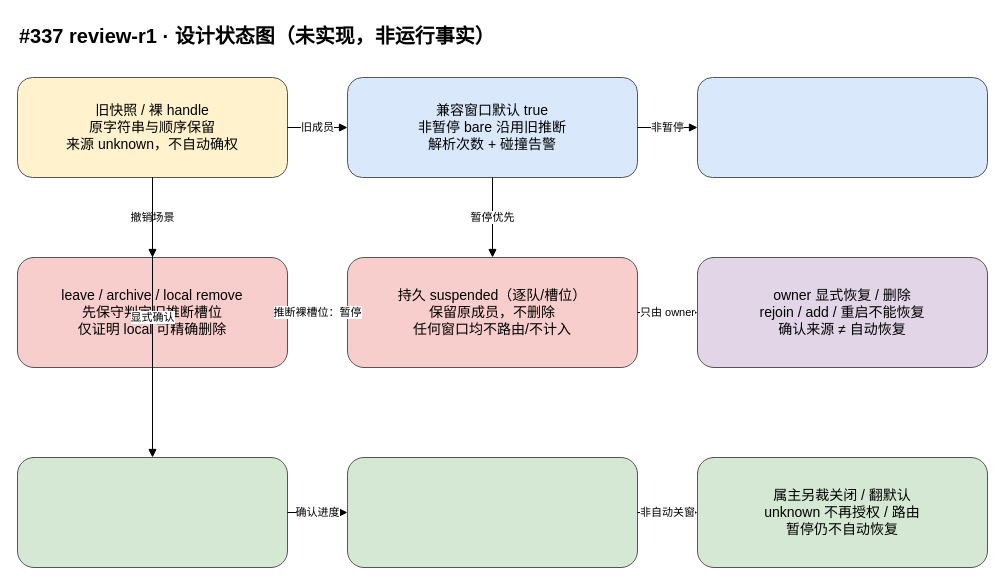
Some shapes in this 1005 by 585 pixel diagram are drawn without their labels. The shapes that lost their labels are listed below. From the top down, each one's centre as x and y in pixels, then its label:
[842,127]: 现有路由 / 授权继续 标记兼容推断，不作删除证据 暂停先过滤
[152,512]: #334 来源确认 local session id 或 @fp8 完整 key 锚 + 原槽原子替换
[492,512]: 舰队观察 + 状态统计 裸/推断存量归零 观察期解析与碰撞增量为零
